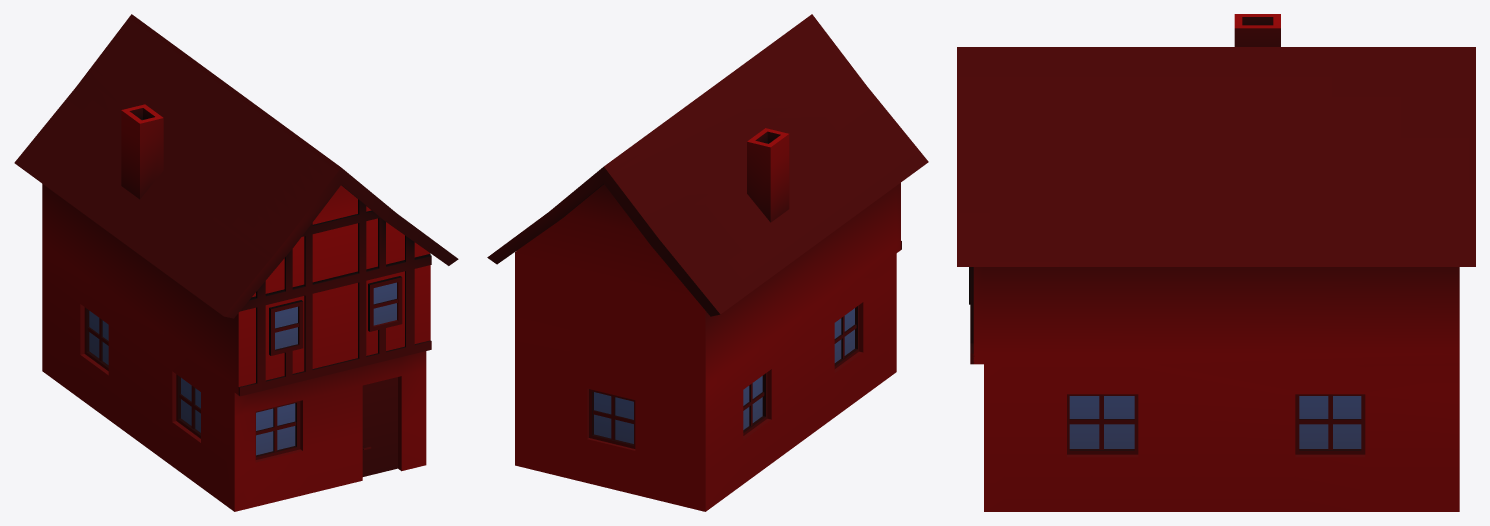
The model's file is buildings-historical-medievalcottage_v4.fbx.
3 views of the same model, side by side, from view 1: azimuth 30°, elevation 25°; view 2: azimuth 150°, elevation 25°; view 3: azimuth 270°, elevation 25° (orthographic). The views are drawn at different scales.
Visible parts, largest first — view 1: MedievalCottage_v4_base, MedievalCottage_v4_windowRefl; view 2: MedievalCottage_v4_base, MedievalCottage_v4_windowRefl; view 3: MedievalCottage_v4_base, MedievalCottage_v4_windowRefl.
Part boxes in pixels (x1=…): MedievalCottage_v4_base: x1=14, y1=14, x2=458, y2=511; MedievalCottage_v4_windowRefl: x1=89, y1=282, x2=396, y2=455; MedievalCottage_v4_base: x1=487, y1=14, x2=928, y2=511; MedievalCottage_v4_windowRefl: x1=594, y1=308, x2=854, y2=443; MedievalCottage_v4_base: x1=957, y1=14, x2=1475, y2=511; MedievalCottage_v4_windowRefl: x1=1069, y1=396, x2=1361, y2=448.
Bounding box in the file's own units: 7.06 × 9.45 × 10.91.
